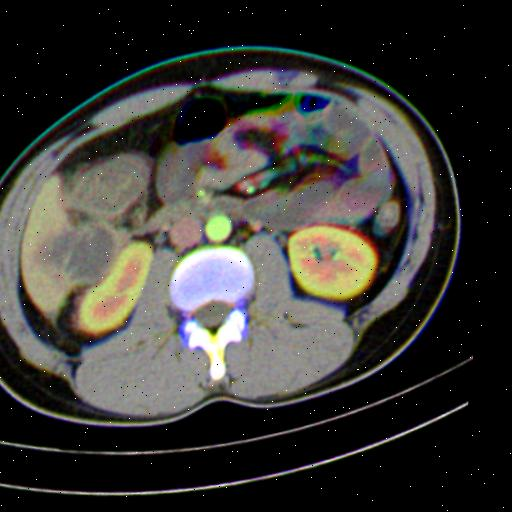Abscess: (73, 156, 152, 214), (46, 225, 124, 283)
